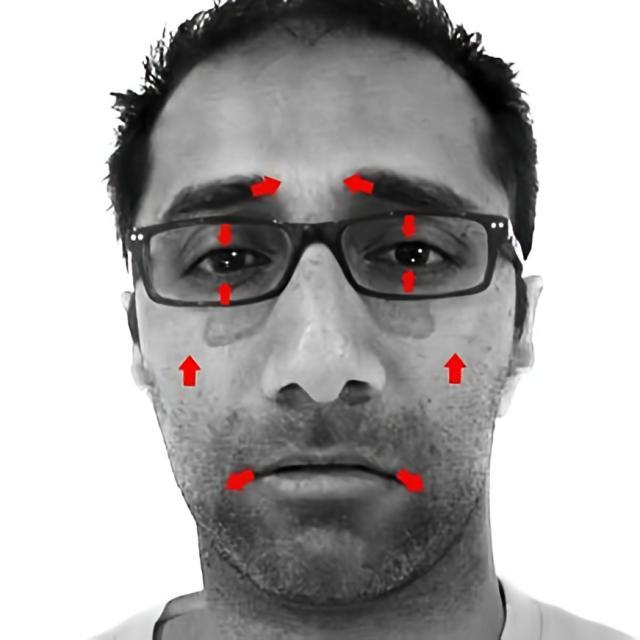sad: (135, 22, 520, 604)
